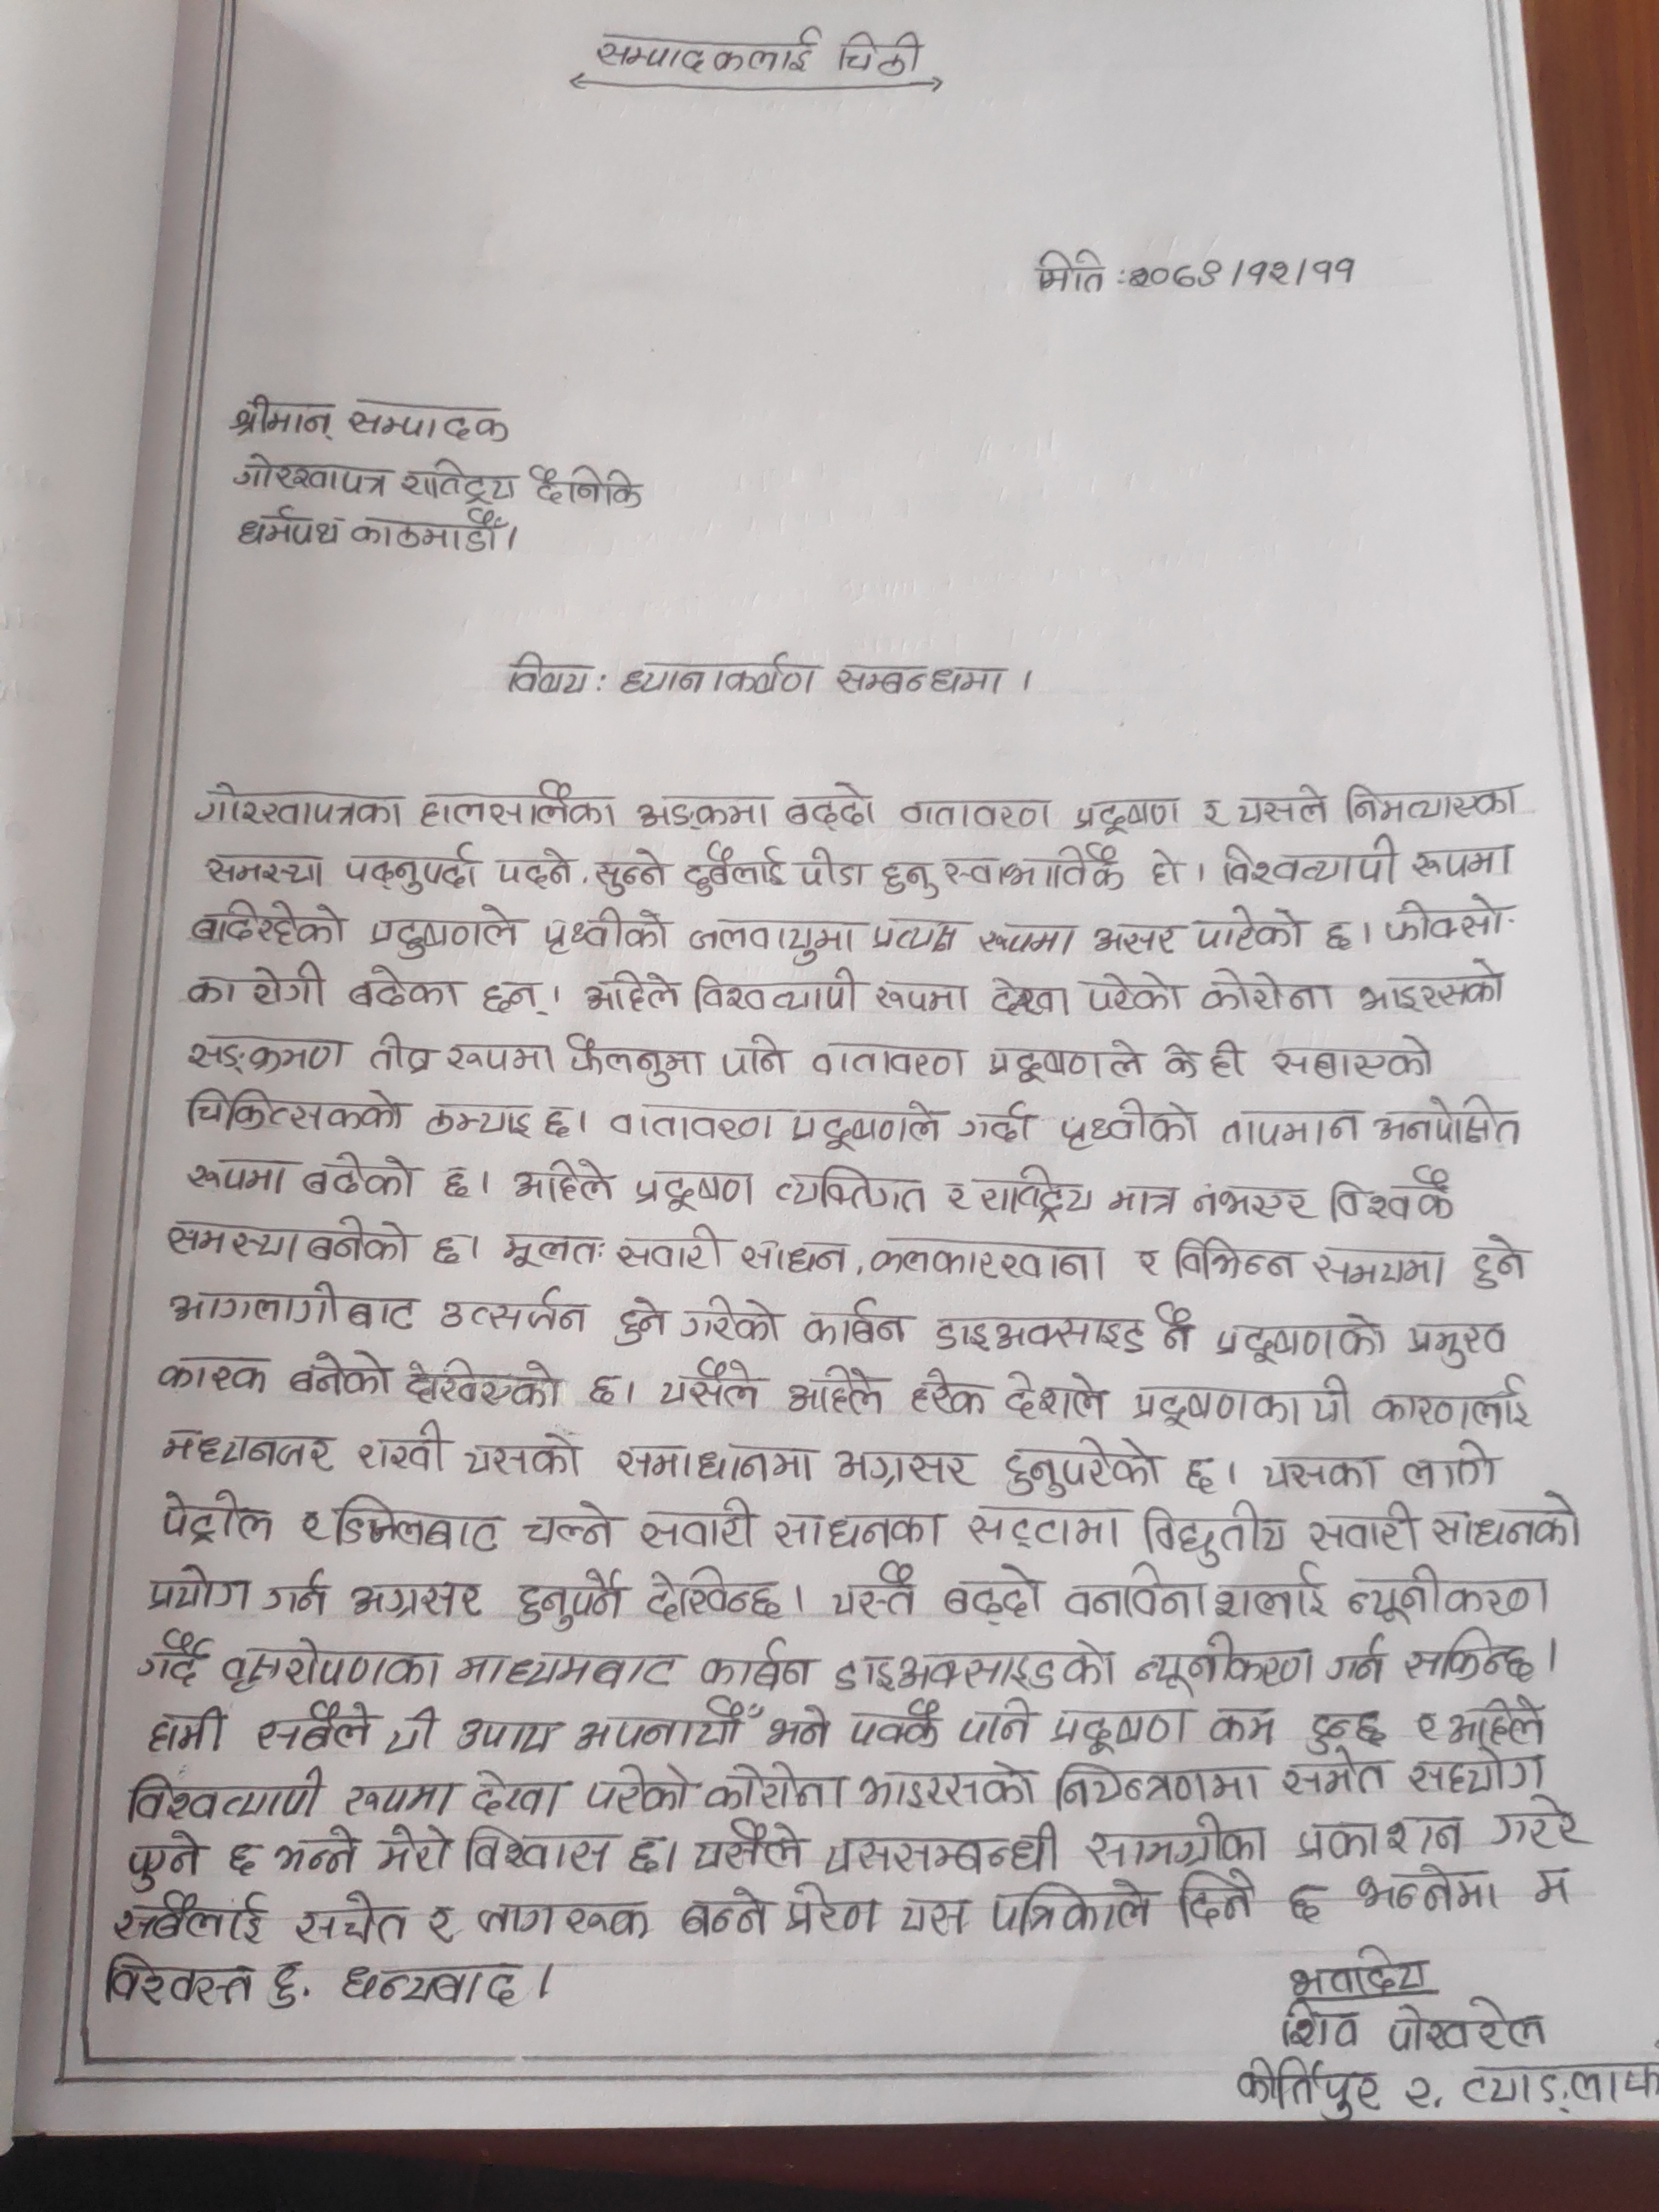text: (830, 1632, 1121, 1695), (1063, 1566, 1335, 1625), (164, 1212, 413, 1270), (866, 1231, 1112, 1289), (821, 1822, 1065, 1878), (167, 1278, 420, 1331), (220, 1637, 448, 1695), (1133, 1629, 1317, 1698), (591, 23, 824, 77), (119, 1766, 324, 1827), (1127, 1372, 1352, 1428), (186, 1083, 408, 1136), (1347, 1564, 1553, 1620), (1084, 1811, 1276, 1871), (331, 1493, 502, 1559), (193, 780, 403, 834), (1459, 2059, 1659, 2114), (1051, 1757, 1269, 1808), (1216, 834, 1403, 892), (420, 779, 622, 831), (1138, 1501, 1293, 1569), (1232, 2055, 1387, 2123), (572, 1698, 765, 1752), (1002, 1433, 1159, 1500), (687, 909, 861, 968), (617, 650, 819, 700), (608, 1439, 817, 1487), (932, 1313, 1152, 1359), (985, 1879, 1157, 1937), (1431, 1489, 1593, 1550), (859, 1757, 1042, 1811), (1384, 1998, 1553, 2055), (941, 846, 1126, 899), (98, 1951, 260, 2010), (401, 1352, 558, 1413), (453, 1649, 681, 1691), (336, 1958, 525, 2008), (1356, 953, 1511, 1014), (1286, 1813, 1473, 1864), (1373, 1092, 1527, 1153), (964, 1498, 1131, 1554), (1283, 1942, 1448, 1998), (464, 1818, 619, 1878), (106, 1892, 270, 1947), (1209, 1317, 1394, 1366), (775, 1162, 931, 1219), (1344, 779, 1525, 827), (1126, 251, 1356, 289), (786, 1099, 946, 1153), (1351, 1862, 1506, 1918), (477, 1897, 653, 1946), (349, 392, 512, 444), (1371, 1379, 1535, 1432), (366, 904, 519, 960), (1403, 1622, 1535, 1686), (688, 967, 863, 1015), (566, 1029, 709, 1089), (228, 449, 394, 500), (1270, 1035, 1441, 1083), (831, 658, 1007, 705), (983, 1036, 1147, 1087), (436, 1282, 592, 1334), (186, 899, 349, 949), (1056, 1096, 1202, 1151), (643, 1568, 789, 1623), (183, 1031, 349, 1080), (153, 1426, 338, 1470), (516, 1562, 627, 1634), (185, 958, 331, 1012), (704, 1763, 850, 1817), (340, 843, 484, 897), (153, 1487, 281, 1548), (1330, 1165, 1460, 1224), (640, 1496, 765, 1557), (606, 1101, 777, 1144), (978, 1160, 1098, 1221), (767, 1508, 948, 1548), (1047, 1707, 1190, 1757), (350, 510, 509, 556), (288, 1890, 411, 1947), (1169, 1233, 1304, 1285), (694, 1815, 810, 1874), (694, 1635, 817, 1691), (1401, 1749, 1547, 1796), (1215, 1104, 1364, 1150), (397, 455, 523, 509), (254, 1698, 380, 1752), (1190, 1172, 1319, 1224), (674, 1291, 788, 1350), (809, 1038, 969, 1080), (1201, 967, 1337, 1015), (943, 1562, 1046, 1627), (301, 1150, 420, 1205), (631, 1162, 762, 1212), (1384, 892, 1509, 944), (779, 1879, 884, 1942), (1307, 1244, 1452, 1289), (831, 1447, 976, 1493), (467, 1428, 580, 1486), (1307, 1498, 1424, 1554), (653, 1357, 760, 1418), (538, 907, 674, 954), (784, 1364, 889, 1425), (897, 791, 1056, 831), (584, 1759, 694, 1817), (997, 1367, 1114, 1421), (349, 1578, 491, 1622), (345, 960, 464, 1012), (681, 841, 784, 900), (633, 791, 772, 834), (1486, 1796, 1586, 1857), (526, 462, 648, 510), (1399, 1435, 1506, 1491), (613, 1221, 730, 1271), (227, 392, 338, 444), (354, 1418, 451, 1477), (153, 1352, 275, 1399), (148, 1564, 258, 1616), (1446, 1695, 1556, 1747), (828, 1561, 918, 1623), (1171, 1869, 1263, 1930), (1406, 1318, 1513, 1371), (1277, 1754, 1387, 1804), (676, 1883, 775, 1939), (802, 1299, 915, 1348), (199, 850, 329, 892), (1258, 1453, 1384, 1496), (1080, 967, 1188, 1017), (288, 1348, 396, 1399), (782, 780, 880, 836), (1070, 791, 1188, 836), (1195, 904, 1309, 951), (509, 1157, 617, 1205), (267, 1825, 364, 1879), (232, 502, 343, 549), (467, 1768, 566, 1820), (849, 1698, 945, 1752), (136, 1629, 214, 1693), (1227, 782, 1330, 831), (122, 1831, 199, 1895), (422, 1099, 535, 1143), (183, 1153, 291, 1198), (342, 1780, 458, 1822), (371, 1822, 458, 1878), (521, 1501, 620, 1550), (1274, 1998, 1366, 2050), (580, 968, 687, 1014), (443, 1038, 558, 1080), (141, 1709, 237, 1757), (495, 1230, 601, 1273), (1403, 843, 1523, 881), (735, 1238, 850, 1278), (908, 1366, 988, 1423), (1302, 1707, 1389, 1757), (986, 970, 1075, 1019), (957, 1698, 1037, 1752), (505, 651, 591, 702), (868, 975, 971, 1017), (453, 1712, 559, 1752), (592, 846, 671, 900), (866, 916, 965, 958), (974, 920, 1077, 960), (836, 28, 924, 75), (760, 1698, 835, 1752), (1086, 921, 1185, 961), (1161, 1038, 1244, 1085), (1469, 1230, 1528, 1296), (955, 1097, 1035, 1146), (1033, 246, 1107, 298), (720, 1029, 793, 1082), (1324, 1632, 1392, 1688), (495, 845, 577, 890), (261, 1568, 335, 1618), (892, 1890, 969, 1937), (606, 1294, 671, 1348), (366, 1031, 436, 1080), (796, 845, 871, 890), (1204, 1705, 1281, 1749), (1105, 1179, 1185, 1219), (479, 977, 552, 1019), (385, 1709, 443, 1757), (877, 860, 945, 900), (1152, 1301, 1197, 1359), (1284, 1879, 1333, 1928), (1525, 1864, 1577, 1905), (265, 1958, 305, 2012), (1399, 2071, 1446, 2116), (624, 1832, 666, 1878), (420, 1900, 460, 1947), (1143, 846, 1190, 885), (436, 1165, 484, 1202), (1182, 1451, 1220, 1496), (220, 1839, 265, 1878), (425, 1231, 469, 1270), (936, 1181, 976, 1219), (589, 1369, 627, 1409), (538, 1104, 577, 1141), (1319, 918, 1356, 953), (1194, 798, 1229, 833), (1408, 1712, 1439, 1749), (1134, 1244, 1164, 1280), (296, 1508, 324, 1543)
